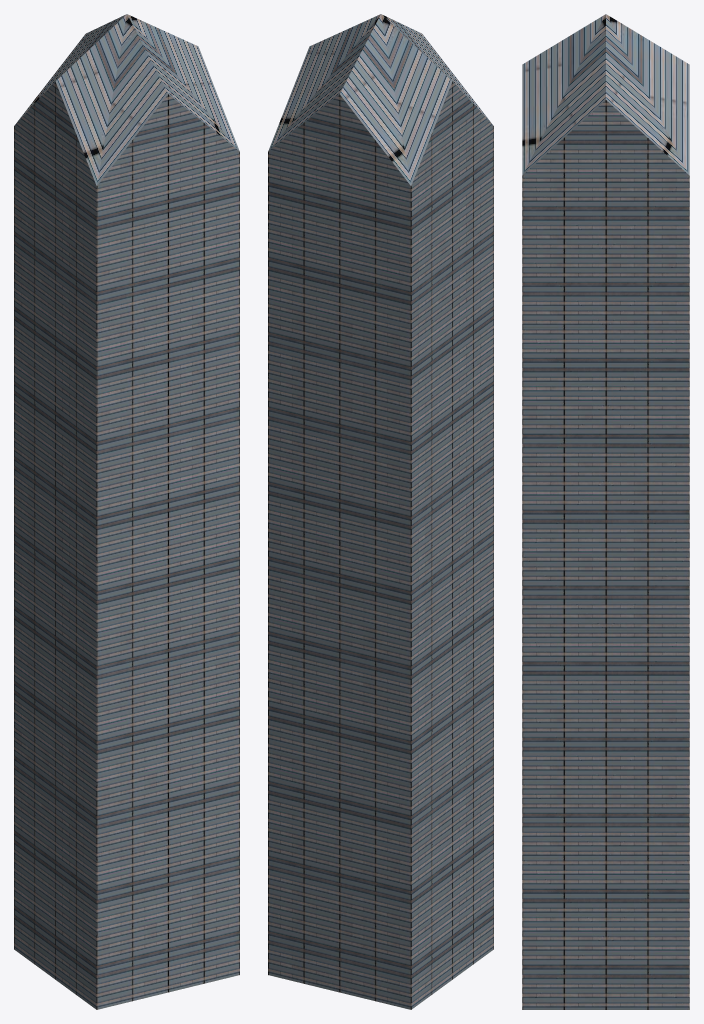
Rendered from skyscrapper.obj.
3 views of the same model, side by side, from view 1: azimuth 30°, elevation 25°; view 2: azimuth 150°, elevation 25°; view 3: azimuth 270°, elevation 25° (orthographic).
Parts seen in each view (by area): view 1: Building_steepleTop; view 2: Building_steepleTop; view 3: Building_steepleTop.
Part boxes in pixels (x1=…): Building_steepleTop: x1=14, y1=14, x2=239, y2=1009; Building_steepleTop: x1=268, y1=14, x2=493, y2=1009; Building_steepleTop: x1=522, y1=14, x2=689, y2=1009.
Size of the model in its own units: 30 by 190 by 30.
